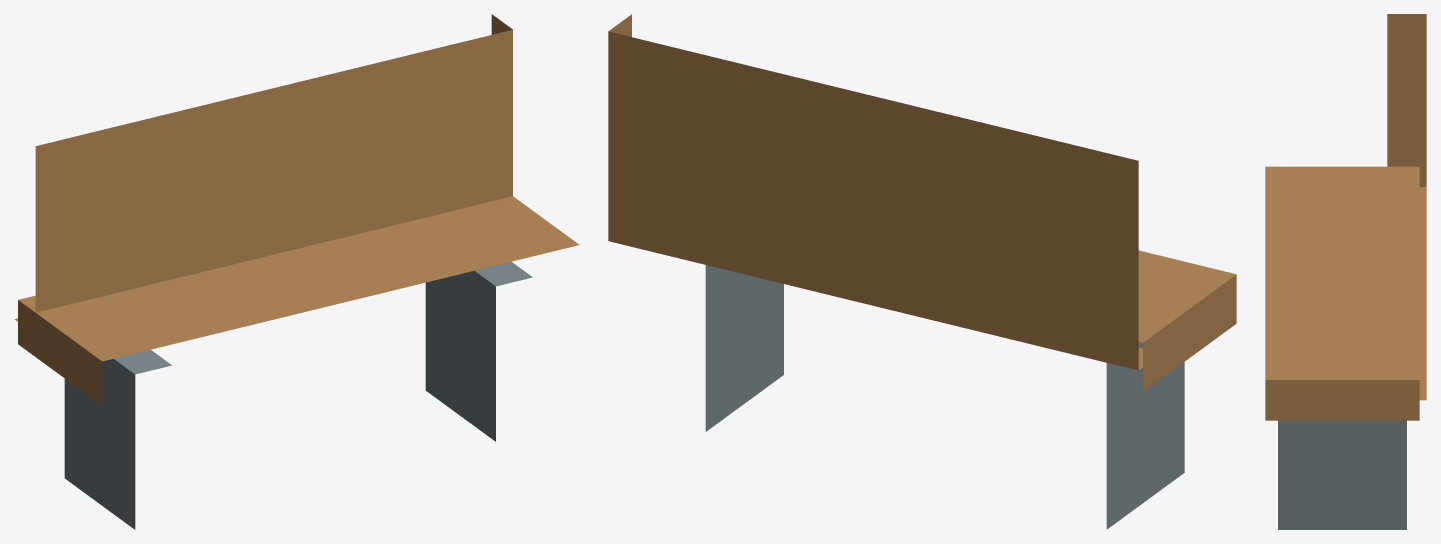
File: fixture-low.glb
3 renders of one model, left to right at view 1: azimuth 30°, elevation 25°; view 2: azimuth 150°, elevation 25°; view 3: azimuth 270°, elevation 25°, orthographic. The views are drawn at different scales.
Visible parts, largest first — view 1: Village bottom-center anchor; view 2: Village bottom-center anchor; view 3: Village bottom-center anchor.
Part boxes in pixels (left/top/right/bottom): Village bottom-center anchor: left=14, top=14, right=579, bottom=529; Village bottom-center anchor: left=608, top=14, right=1236, bottom=529; Village bottom-center anchor: left=1265, top=14, right=1426, bottom=529.
Size of the model in its own units: 1.8 by 1.26 by 0.575.
